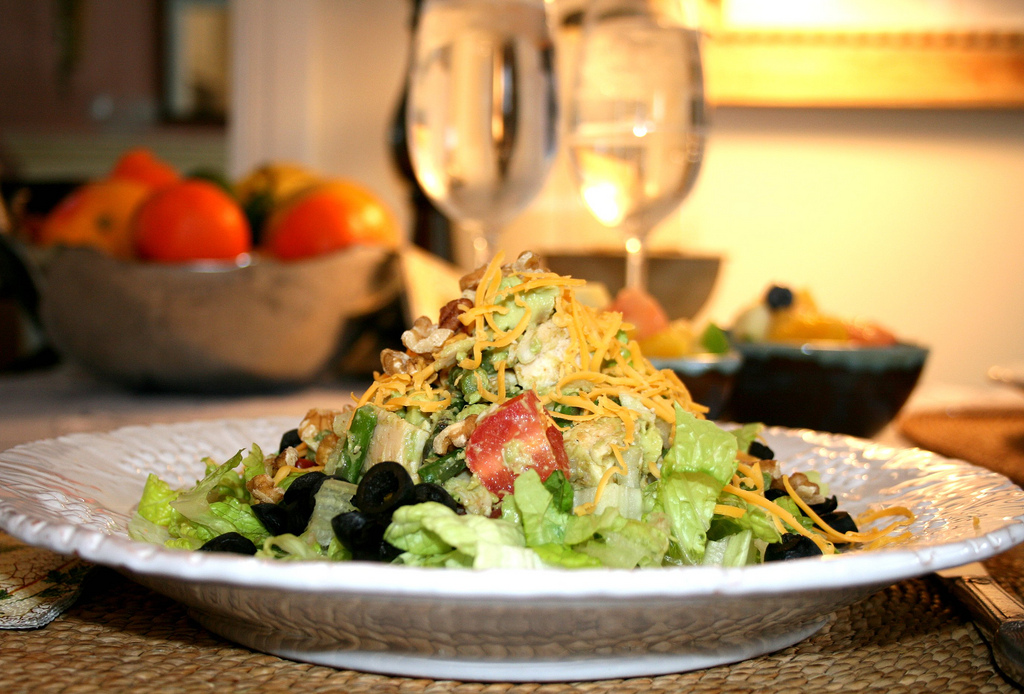chopped lettuce: (152, 390, 891, 572)
